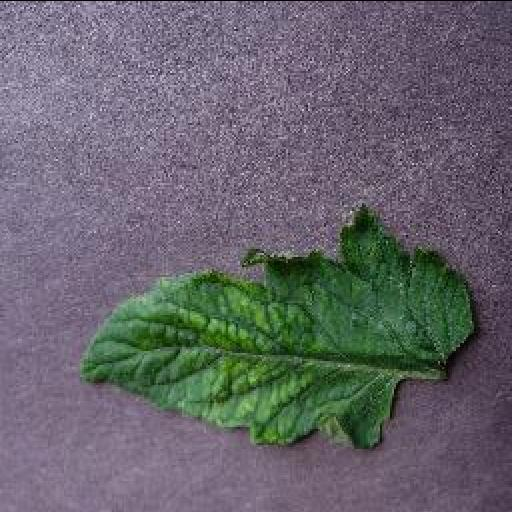disease_tomato: (74, 208, 470, 450)
